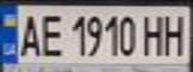0: (118, 11, 139, 57)
1: (66, 11, 87, 57), (103, 11, 121, 57)
9: (84, 11, 106, 57)
A: (15, 10, 45, 58)
E: (36, 10, 66, 58)
H: (139, 11, 169, 57), (160, 10, 190, 56)
